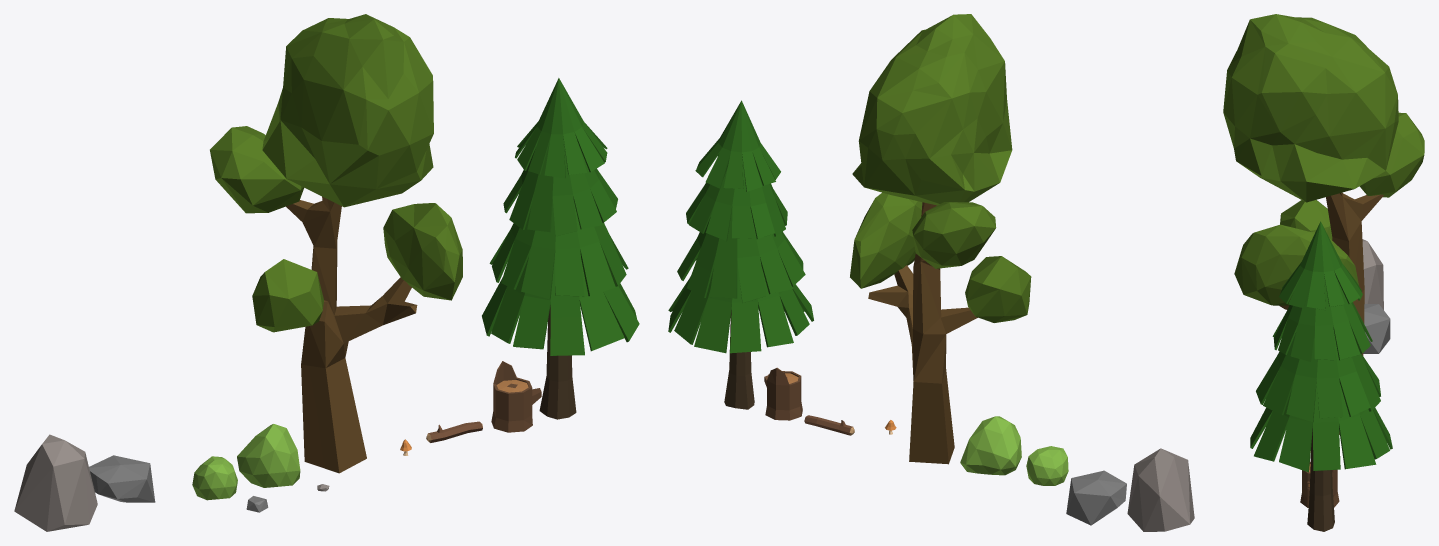
3 views of the same model, side by side, from view 1: azimuth 30°, elevation 25°; view 2: azimuth 150°, elevation 25°; view 3: azimuth 270°, elevation 25° (orthographic). The views are drawn at different scales.
Parts seen in each view (by area): view 1: Tree1, Tree2, Rock4, Bush1, Rock1, Stump1, Bush2; view 2: Tree1, Tree2, Rock4, Bush1, Rock1, Stump1, Bush2; view 3: Tree1, Tree2, Rock4, Rock1, Stump1.
Part boxes in pixels (bbox=[...]): Tree1: bbox=[210, 14, 462, 473]; Tree2: bbox=[482, 78, 639, 419]; Rock4: bbox=[14, 434, 97, 531]; Bush1: bbox=[237, 424, 300, 487]; Rock1: bbox=[89, 455, 155, 502]; Stump1: bbox=[491, 361, 541, 432]; Bush2: bbox=[192, 456, 237, 500]; Tree1: bbox=[850, 14, 1031, 464]; Tree2: bbox=[668, 100, 813, 409]; Rock4: bbox=[1127, 448, 1194, 531]; Bush1: bbox=[960, 416, 1021, 475]; Rock1: bbox=[1066, 470, 1126, 525]; Stump1: bbox=[764, 367, 802, 420]; Bush2: bbox=[1026, 446, 1068, 485]; Tree1: bbox=[1223, 14, 1424, 434]; Tree2: bbox=[1250, 221, 1392, 531]; Rock4: bbox=[1362, 239, 1383, 309]; Rock1: bbox=[1363, 304, 1390, 353]; Stump1: bbox=[1300, 462, 1339, 507].
Bounding box in the file's own units: 3160 × 2388 × 1038.
